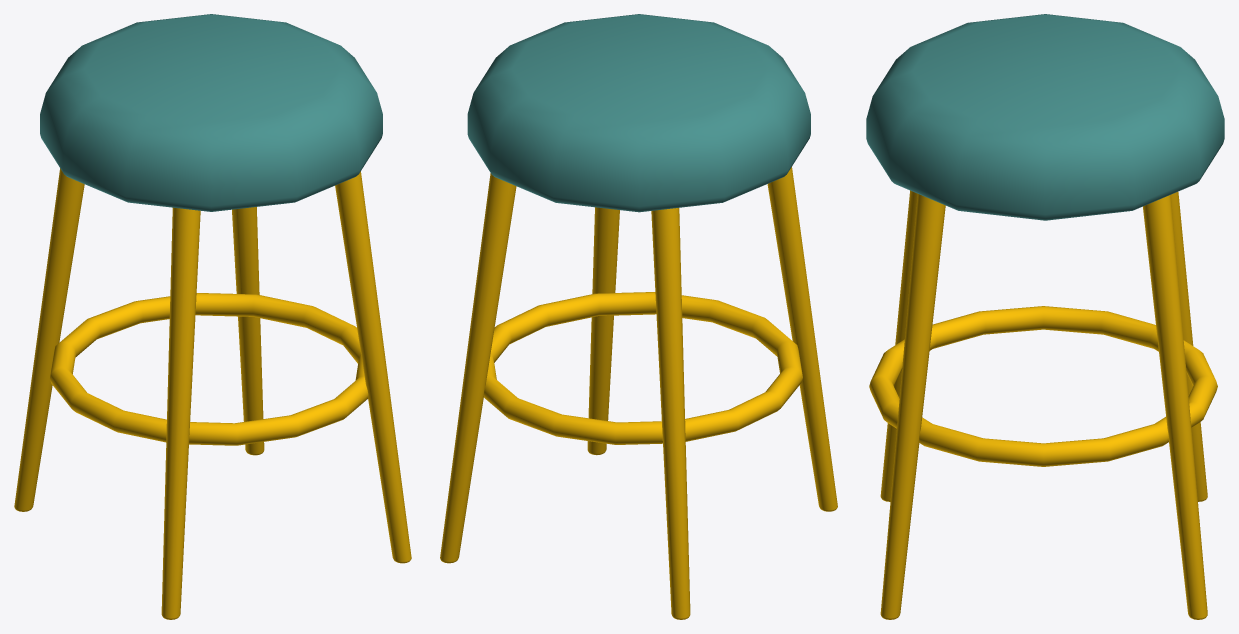
File: Chair_8V.fbx
The picture shows the model from 3 angles, left to right: view 1: azimuth 30°, elevation 25°; view 2: azimuth 150°, elevation 25°; view 3: azimuth 270°, elevation 25°; orthographic projection. The views are drawn at different scales.
Parts seen in each view (by area): view 1: Chair_8V; view 2: Chair_8V; view 3: Chair_8V.
Part boxes in pixels (x1=…): Chair_8V: x1=14, y1=14, x2=411, y2=619; Chair_8V: x1=440, y1=14, x2=837, y2=619; Chair_8V: x1=866, y1=14, x2=1224, y2=619.
Size of the model in its own units: 0.5196 by 0.7787 by 0.5196.
